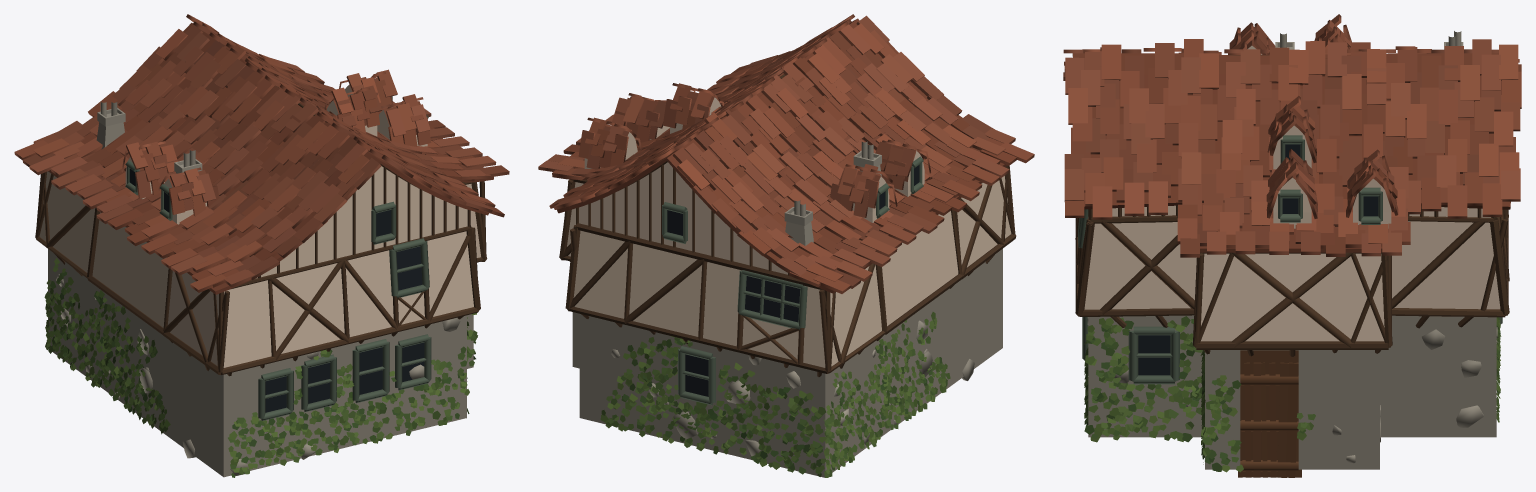
File: house_48.glb
3 views of the same model, side by side, from view 1: azimuth 30°, elevation 25°; view 2: azimuth 150°, elevation 25°; view 3: azimuth 270°, elevation 25° (orthographic). The views are drawn at different scales.
Visible parts, largest first — view 1: house_48; view 2: house_48; view 3: house_48.
Part boxes in pixels (x1=…): house_48: x1=14, y1=14, x2=509, y2=477; house_48: x1=538, y1=14, x2=1034, y2=477; house_48: x1=1063, y1=14, x2=1521, y2=477.
Size of the model in its own units: 7.9 by 6.52 by 7.62.
